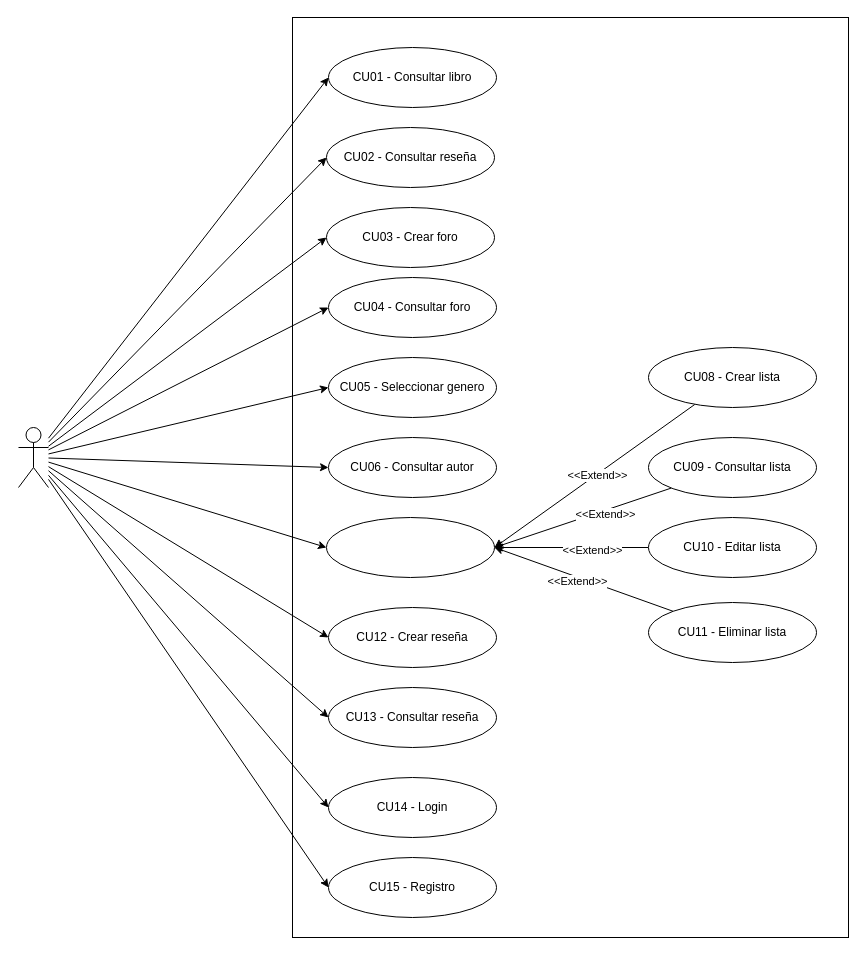
Some shapes in this 866 by 955 pixel diagram are drawn without their labels. The centre of each missing label's shape, as x and y in pixels:
"CU07 - Administrar listas" goes at (410,547).
"Lector" goes at (33,457).
